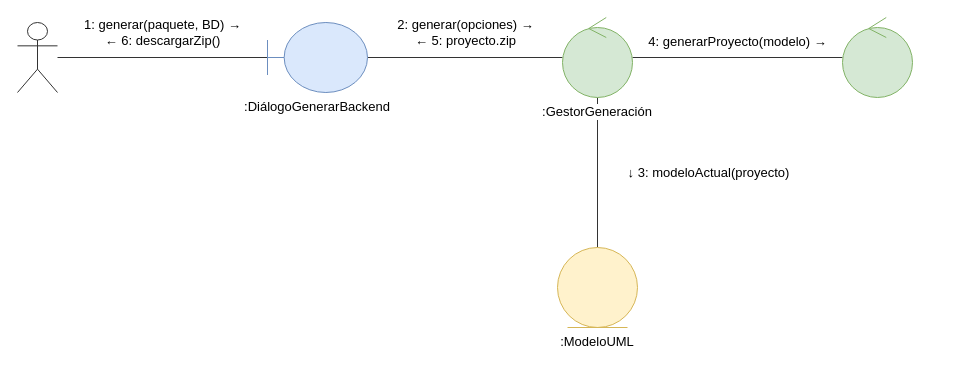
The diagram is 960 pixels wide and 368 high, and some of its shapes have lost their labels. Here are the shapes that lost their labels. From the top down, the centre of each, then its label:
[37,57]: Lector
[877,57]: :GeneradorSpringBoot
